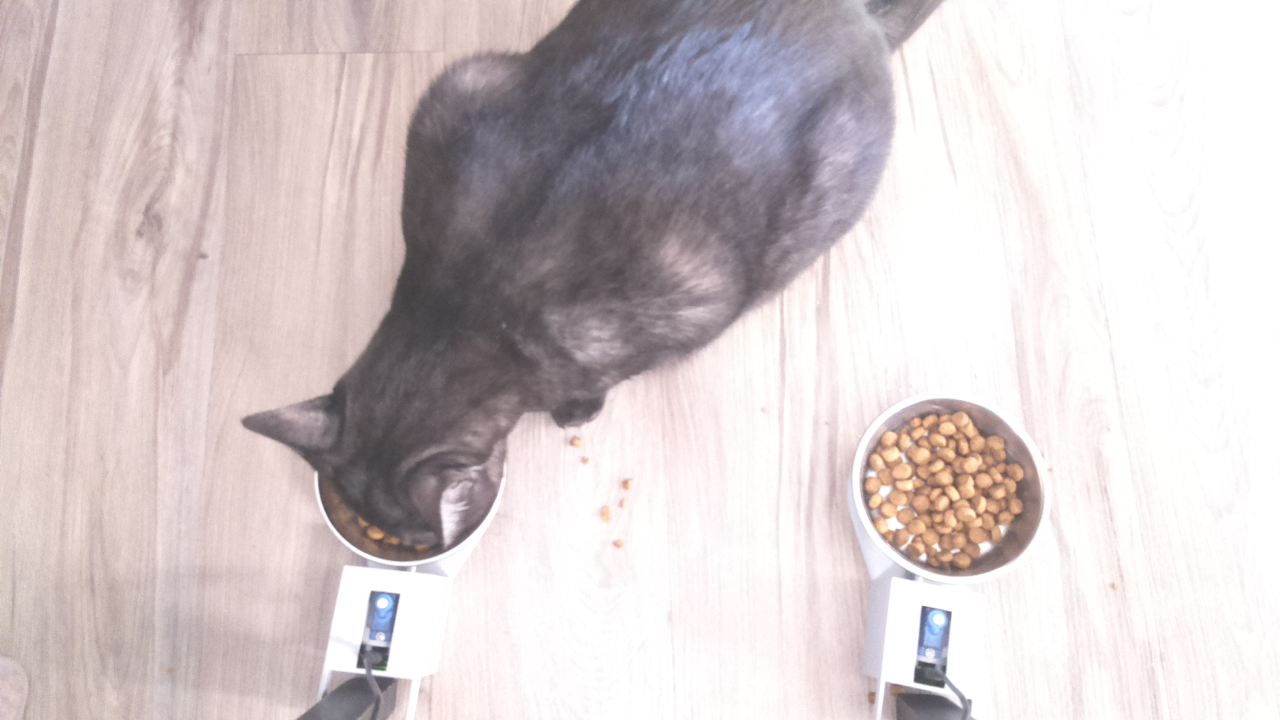open_bowl: (848, 390, 1048, 587)
saki_eating: (234, 323, 519, 575)
